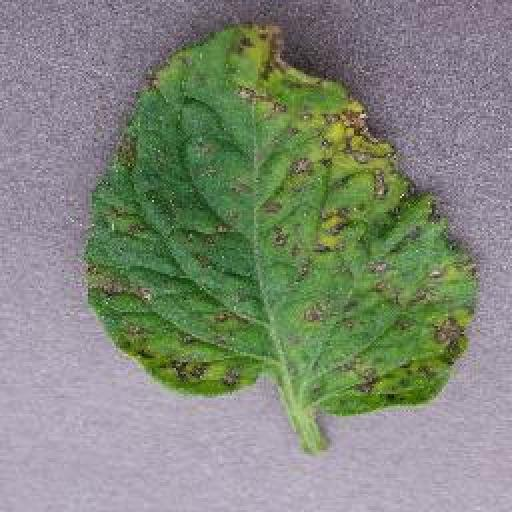disease_tomato: (90, 23, 479, 413)
